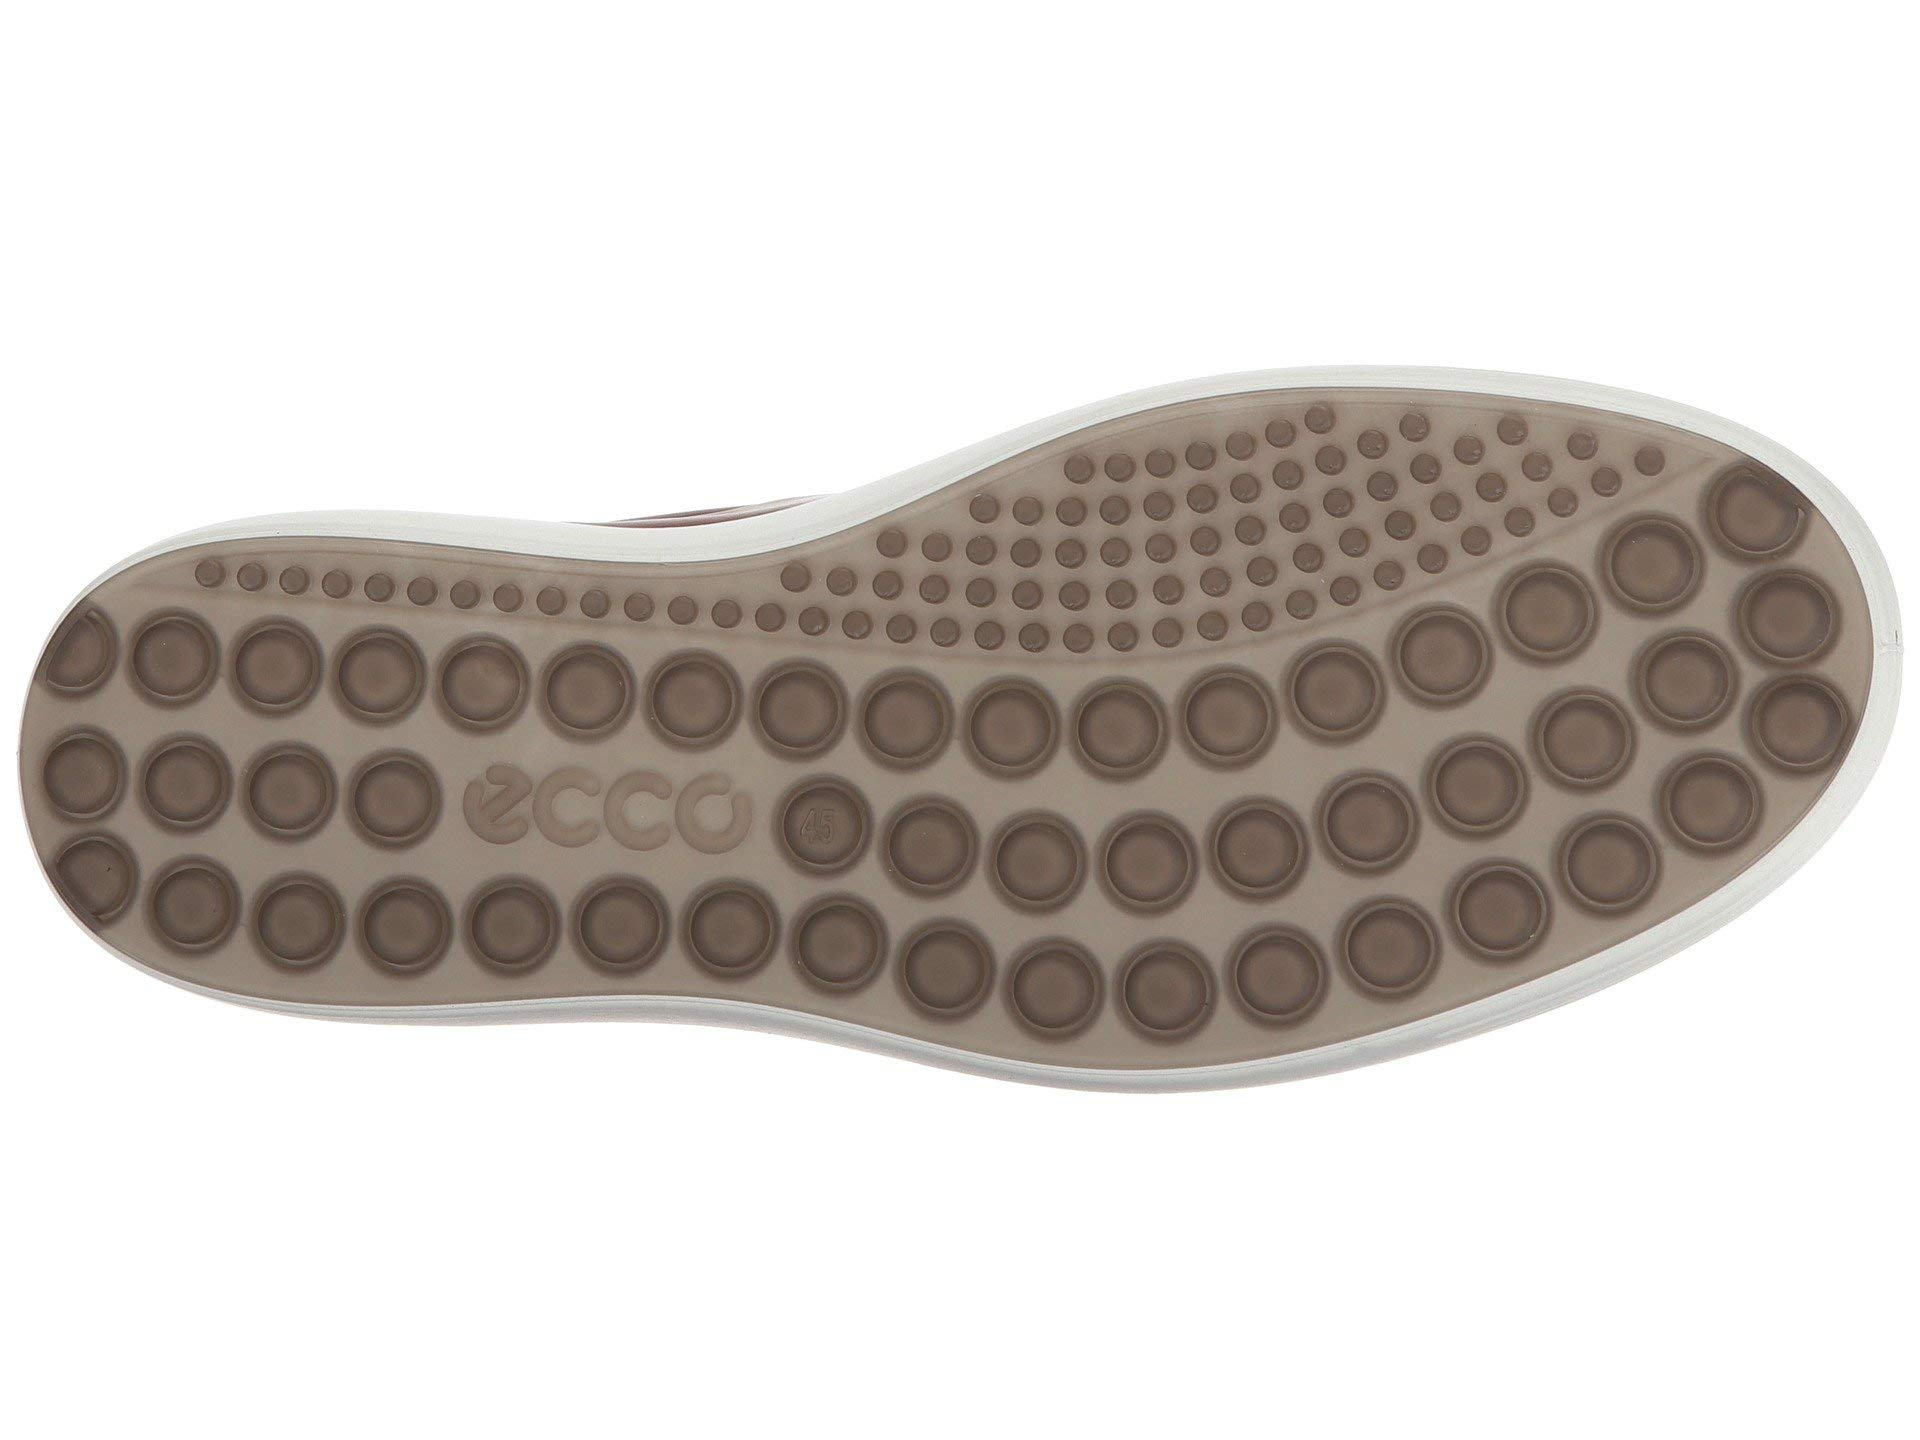circle: (955, 759, 1281, 1091), (1367, 613, 1695, 927), (321, 601, 609, 927), (603, 650, 860, 927), (1054, 455, 1273, 675)
text: (321, 601, 609, 927), (603, 650, 860, 927)
